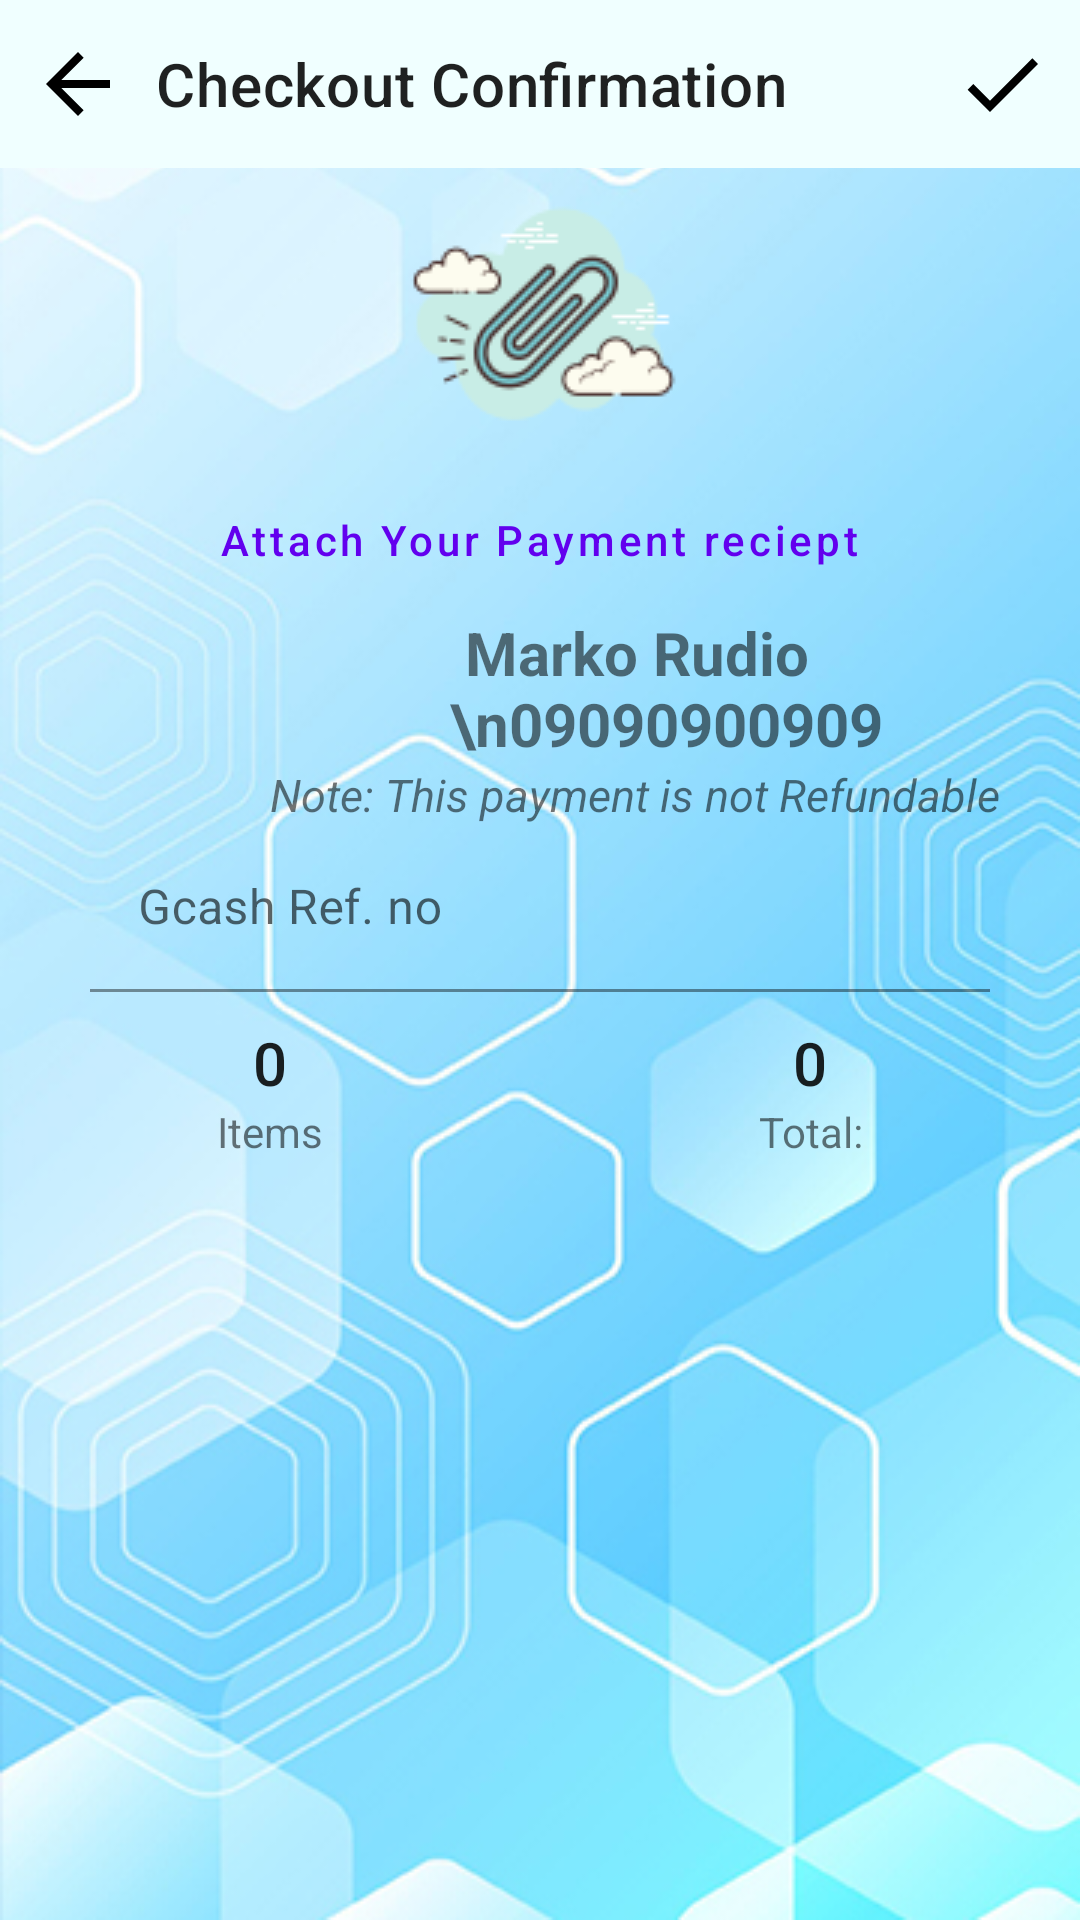

Icons on this 1080*1920 Android screen, each with the point to tap as point (x, y):
Back: point (78, 84)
